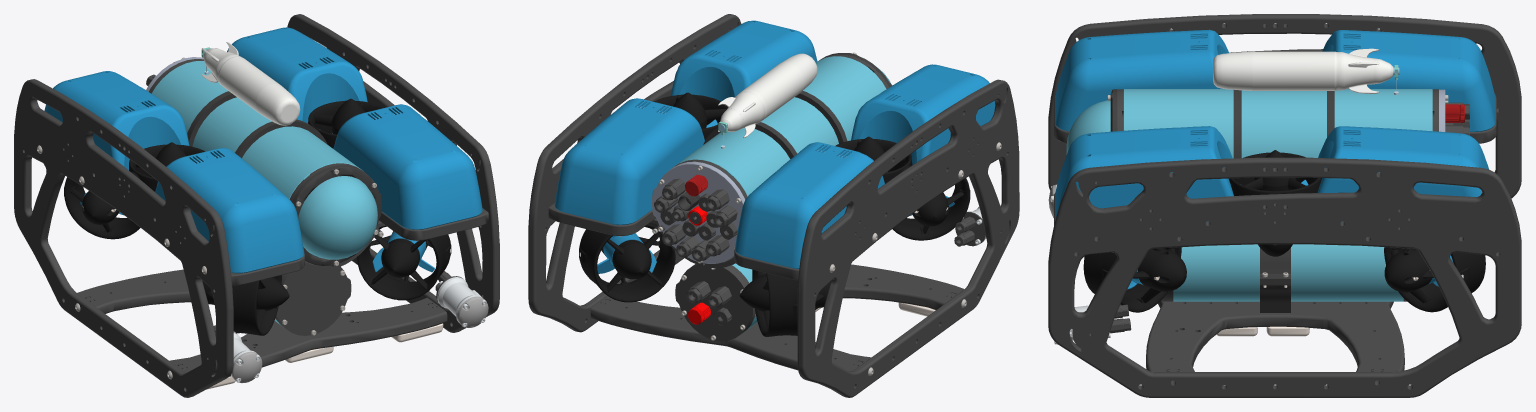
File: bluerov2.glb
3 views of the same model, side by side, from view 1: azimuth 30°, elevation 25°; view 2: azimuth 150°, elevation 25°; view 3: azimuth 270°, elevation 25° (orthographic). The views are drawn at different scales.
Parts seen in each view (by area): view 1: BROV2-P-SIDE-PANEL-X4:1; view 2: BROV2-P-SIDE-PANEL-X4:1; view 3: BROV2-P-SIDE-PANEL-X4:1.
Boxes of the visible parts, box(x1,y1,x2,y2) form: BROV2-P-SIDE-PANEL-X4:1: box(14, 14, 499, 397); BROV2-P-SIDE-PANEL-X4:1: box(528, 14, 1019, 397); BROV2-P-SIDE-PANEL-X4:1: box(1048, 14, 1521, 397).
Bounding box in the file's own units: 0.3408 × 0.2898 × 0.4572.
Materials: 1 (1 with a texture image).
